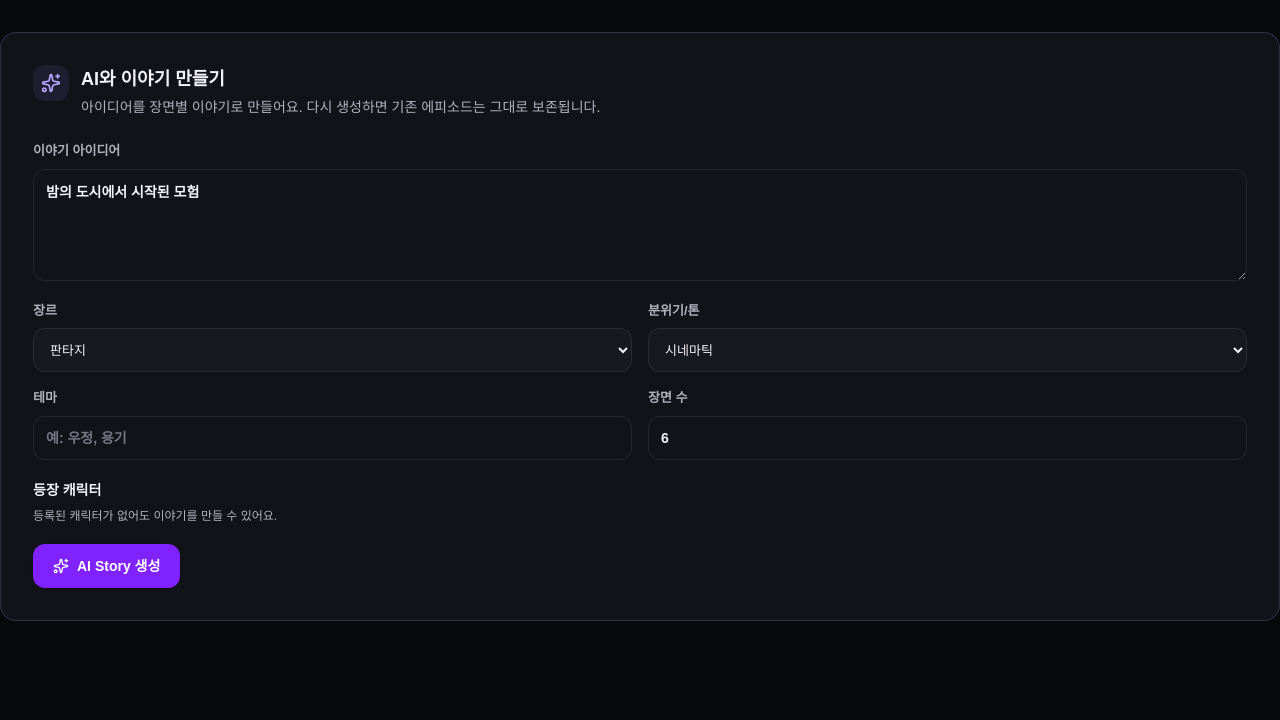
Test: StoryStudio › cancels through the backend and trusts its returned status
This screenshot has width=1280, height=720.
Click the button "AI Story 생성".
click(107, 566)  # box x1=33 y1=544 x2=180 y2=588
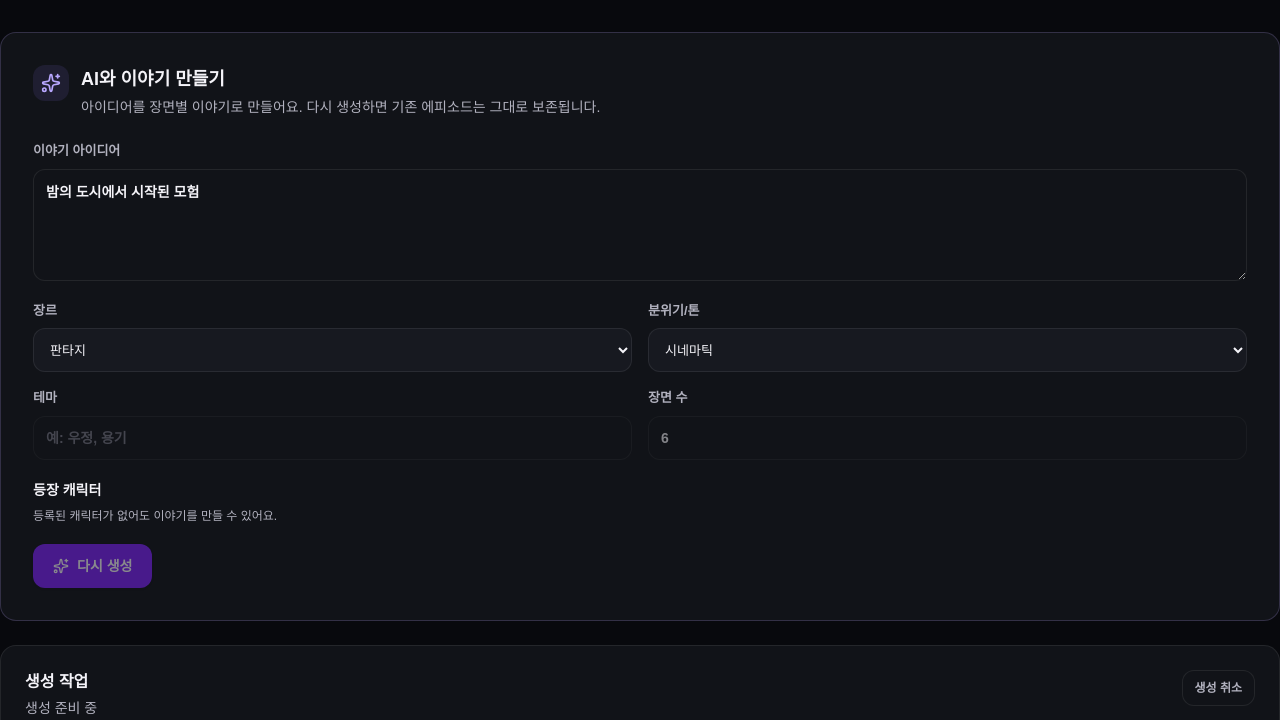
Now the text "생성 준비 중" is shown, box x1=25 y1=698 x2=97 y2=718
Click the button "생성 취소".
click(1218, 688)  # box x1=1182 y1=670 x2=1255 y2=706
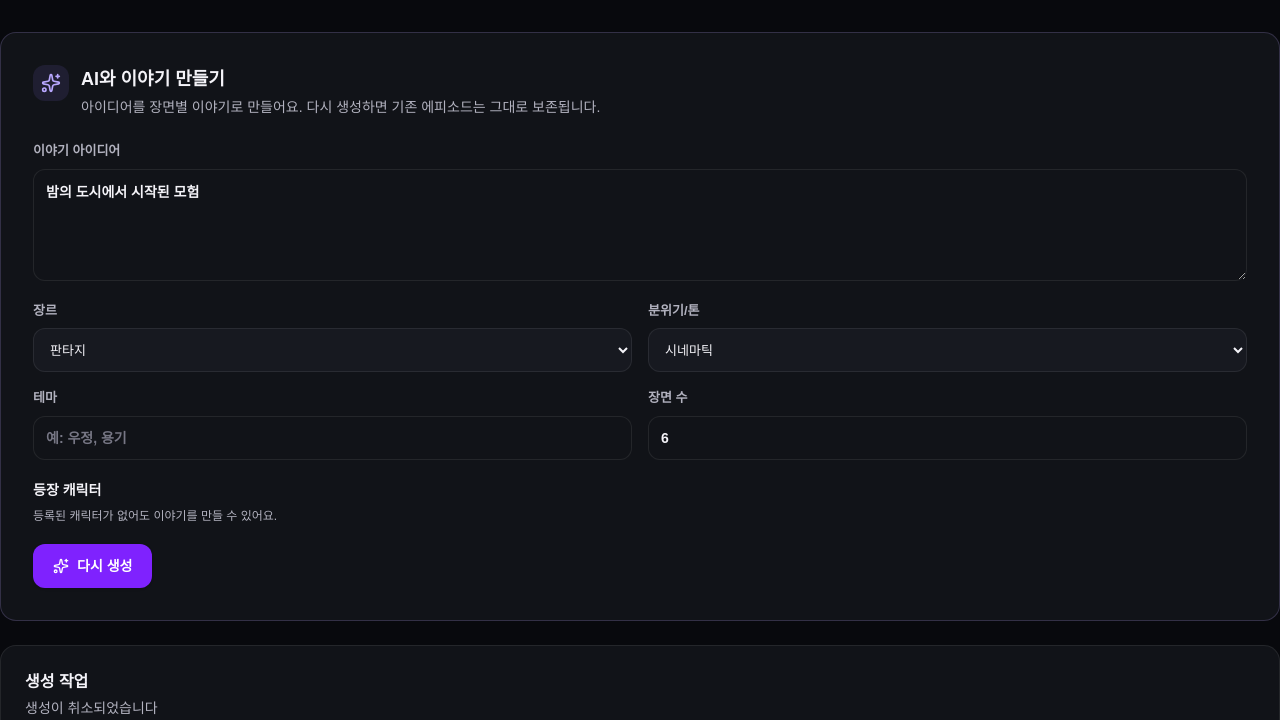
Now the text "생성이 취소되었습니다" is shown, box x1=25 y1=698 x2=158 y2=718
